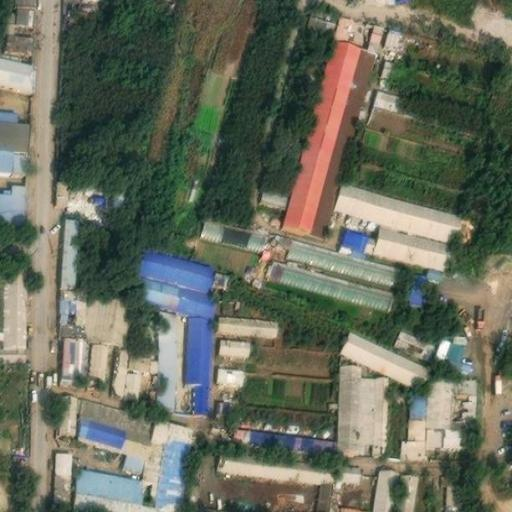building: (280, 33, 361, 227), (310, 41, 376, 231), (332, 175, 456, 236), (271, 248, 390, 306), (285, 233, 395, 282), (341, 322, 427, 383), (336, 359, 389, 449), (215, 446, 332, 479), (370, 217, 448, 266), (134, 242, 213, 283), (76, 392, 154, 433), (156, 418, 193, 504), (70, 484, 182, 512), (187, 306, 214, 407), (110, 342, 156, 398), (75, 462, 145, 496), (198, 210, 263, 245), (0, 263, 25, 351), (157, 306, 178, 401), (139, 414, 168, 479), (174, 277, 220, 311), (437, 329, 474, 368), (61, 213, 81, 282), (371, 462, 399, 511), (396, 323, 437, 356), (218, 308, 278, 330), (427, 374, 453, 423), (77, 414, 123, 441), (393, 465, 419, 512), (139, 269, 179, 299), (407, 270, 436, 311), (0, 48, 34, 80), (52, 445, 71, 499), (250, 425, 293, 448), (0, 113, 29, 147), (0, 180, 24, 220), (54, 387, 78, 426), (59, 281, 77, 330), (87, 332, 108, 372), (64, 329, 84, 369), (340, 223, 374, 246), (118, 426, 148, 452), (377, 84, 407, 110), (216, 359, 248, 383), (387, 24, 411, 51), (220, 331, 252, 350), (402, 432, 426, 454), (383, 55, 403, 80), (56, 174, 74, 201), (212, 392, 233, 415), (121, 447, 143, 467), (408, 412, 427, 433), (340, 500, 372, 512), (232, 423, 252, 442), (409, 391, 427, 412), (292, 431, 321, 444), (442, 423, 461, 440), (426, 419, 442, 437), (342, 459, 356, 478), (426, 437, 452, 445), (0, 103, 17, 115)
